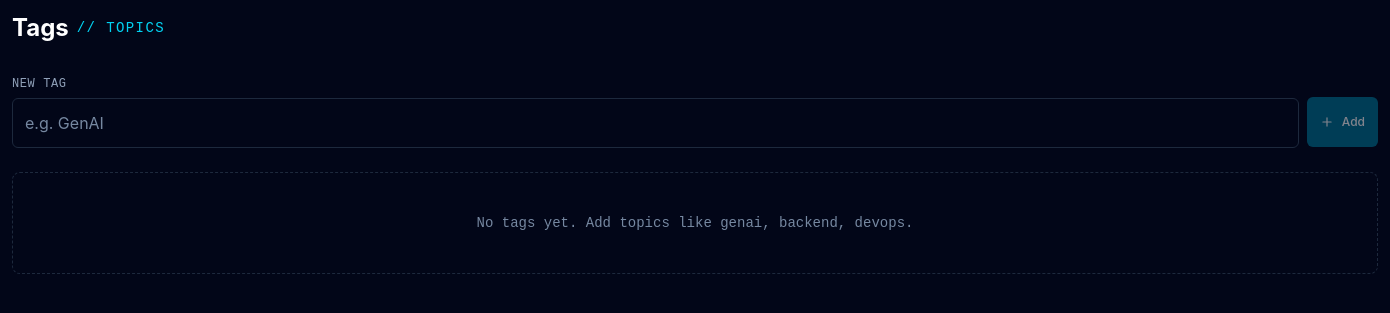
it: BLG-34 TagManager › creates a tag and shows slug preview
The image size is (1390, 313).
Later steps or results of the test are not shown.
In the field labelled "New tag": (655, 123) [12,98,1299,148], type "Gen AI"
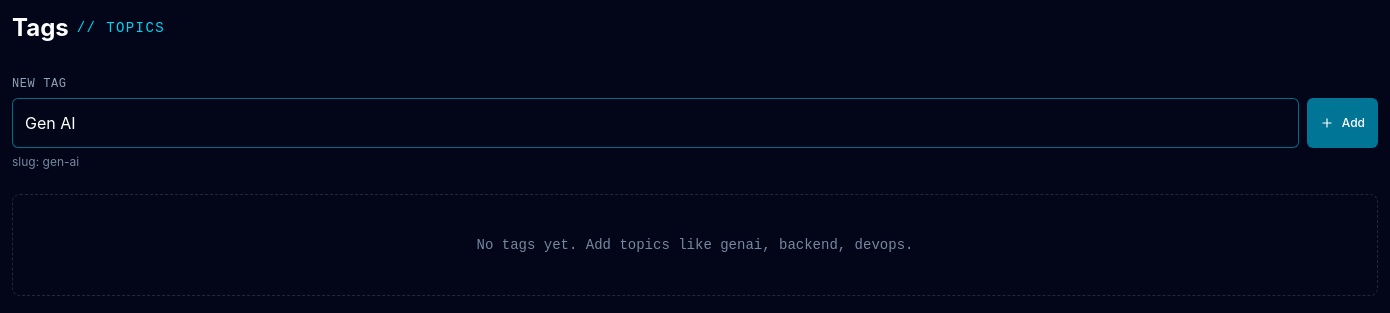
Expected: the text "slug: gen-ai" is shown, [12,154,79,169]
